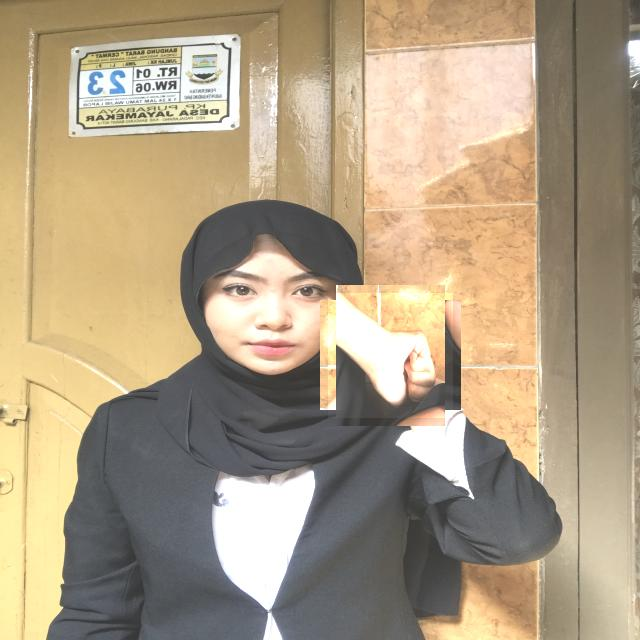ibu: (328, 293, 453, 418)
